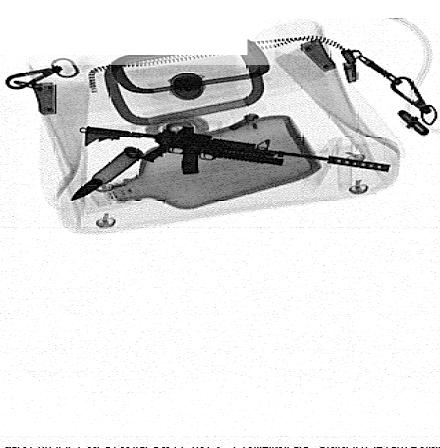Bullet: (70, 147, 143, 200)
Gun: (83, 125, 390, 175)
